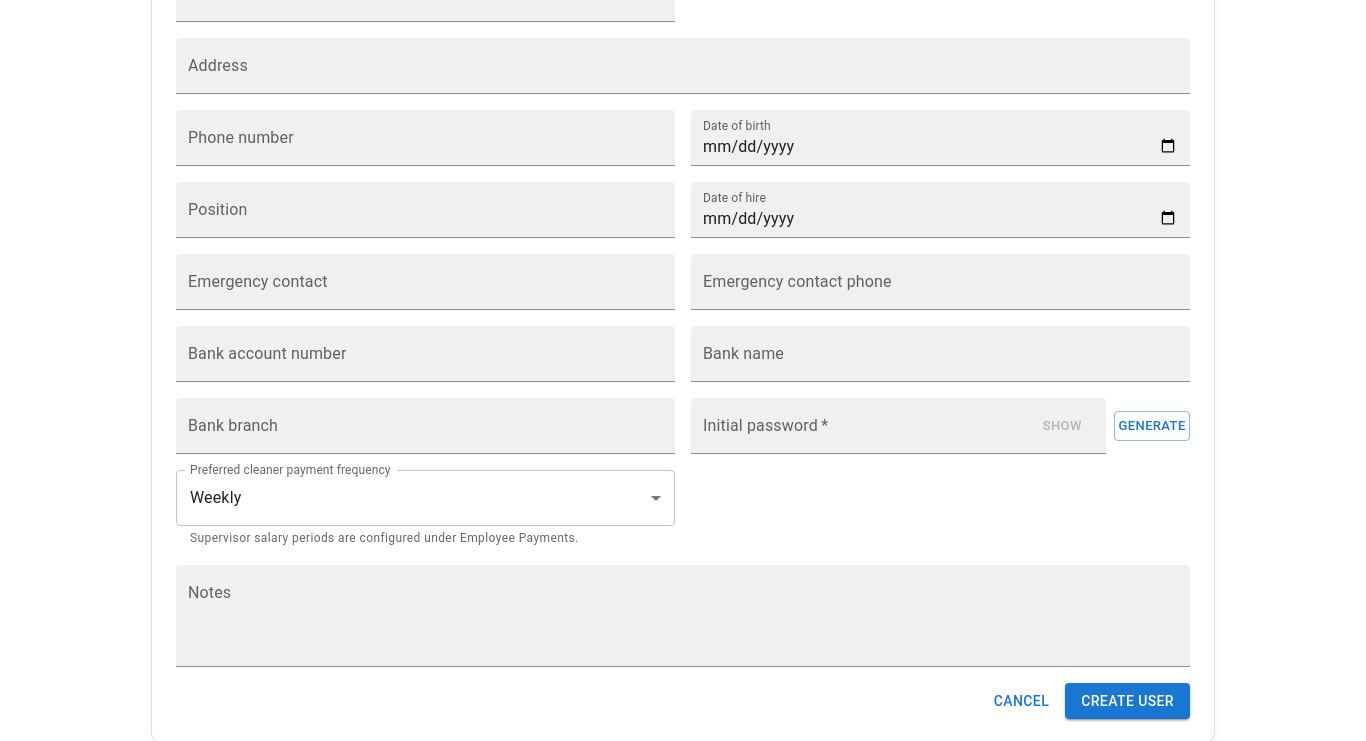
Test: React Hook Form submission boundaries › generates initial passwords and reports account errors before creating users
(page scrolled)
Click the button "Generate".
click(1152, 426)  # box [1114,410,1190,441]
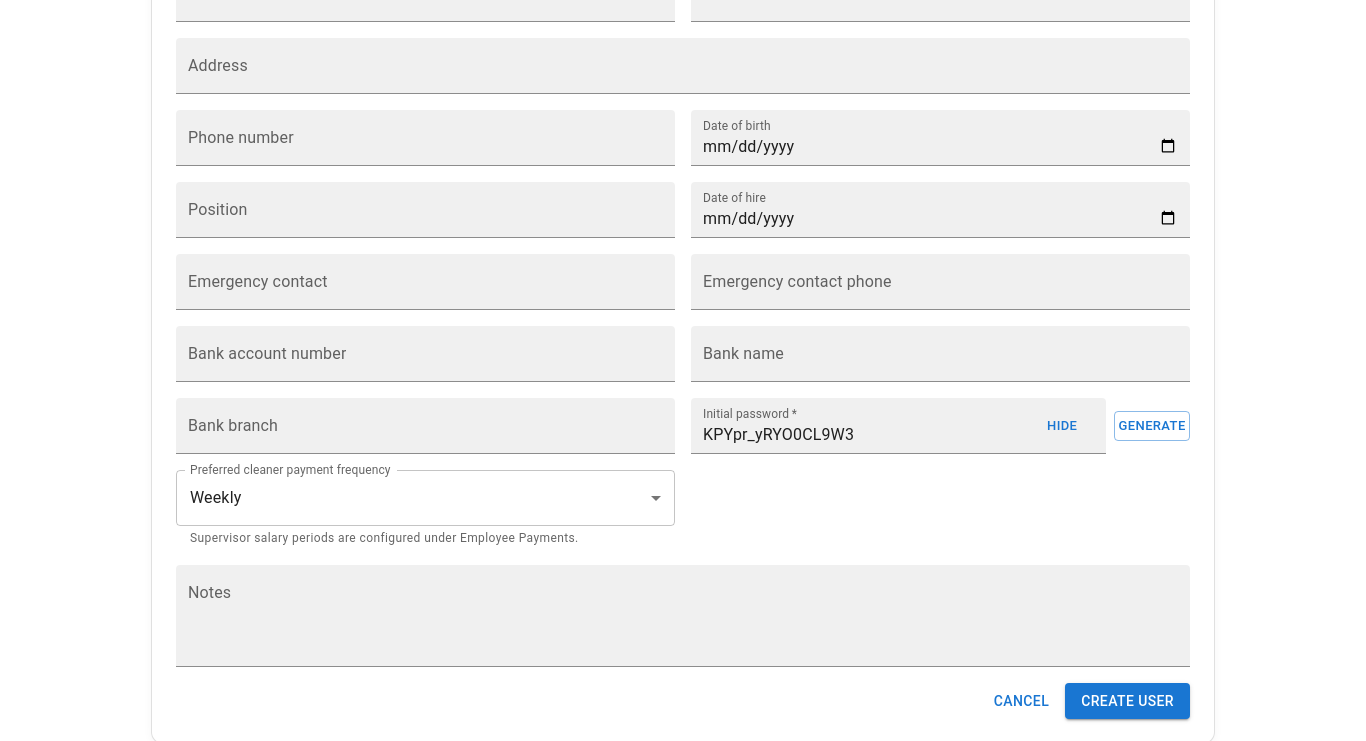
Click the button "Create user".
click(1128, 701)  # box [1065,683,1190,719]
(page scrolled)
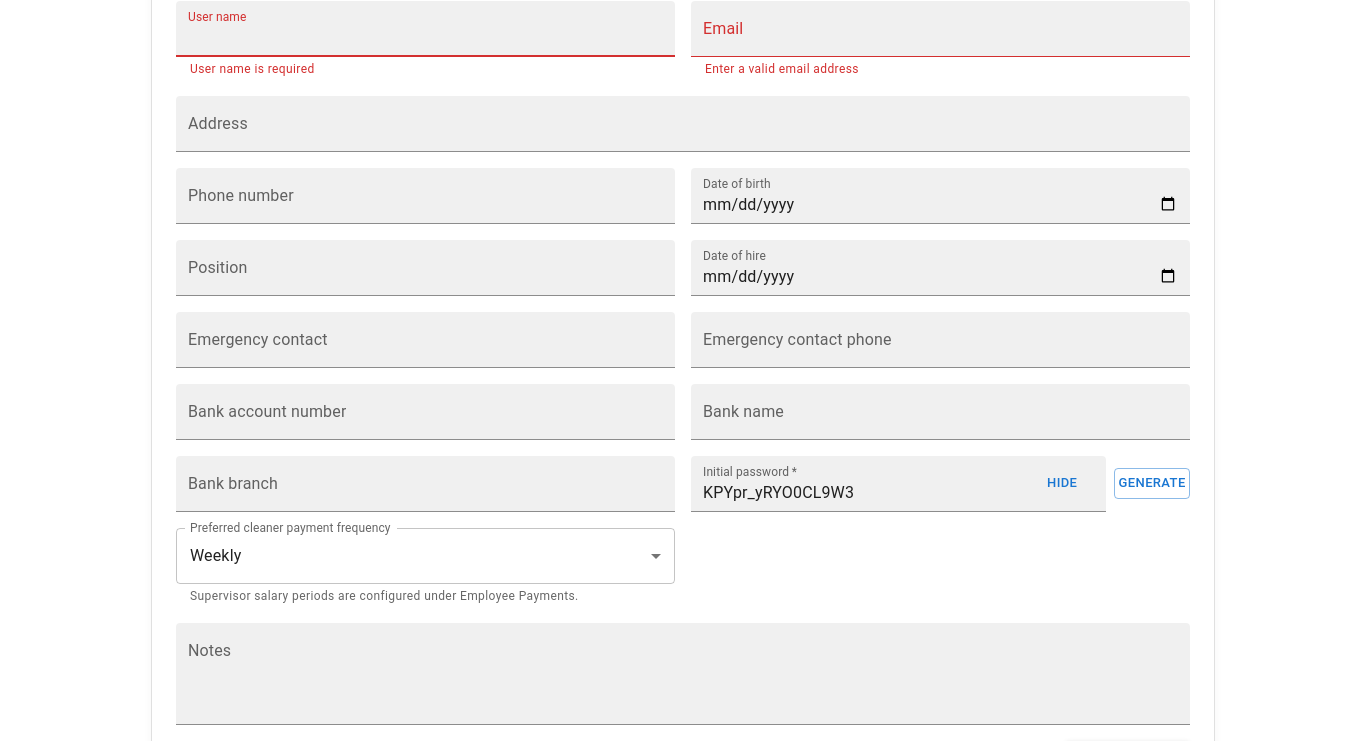
Check: the text "User name is required" is shown, box [190,62,315,76]
